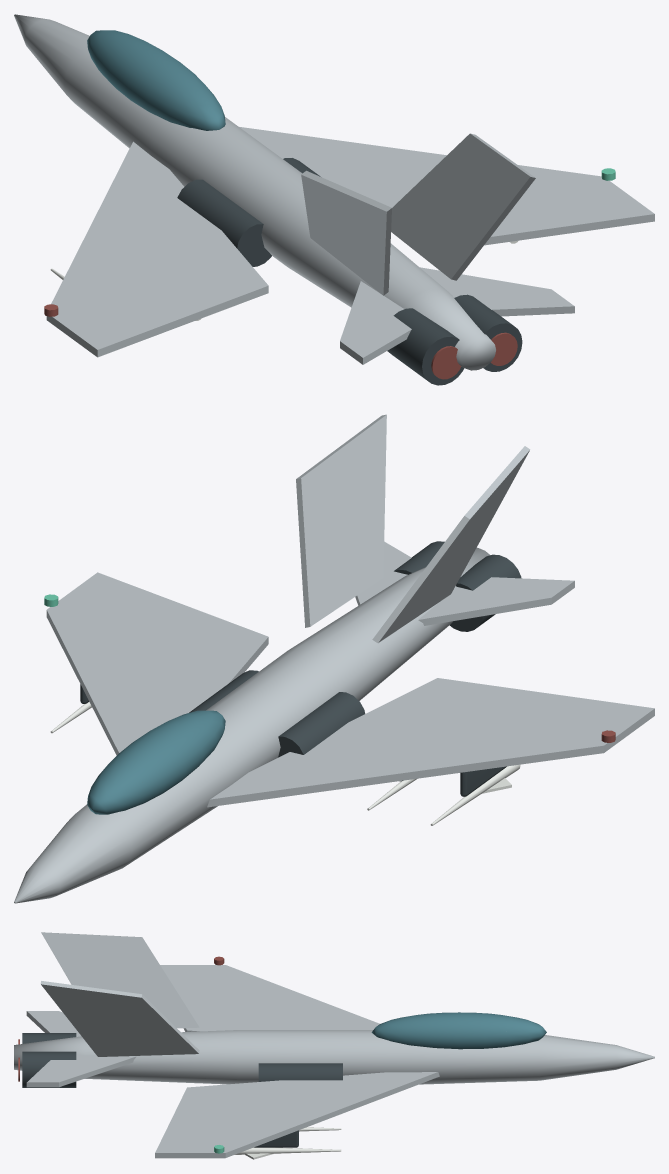
Rendered from generic-fighter.glb.
3 views of the same model, one above another, from view 1: azimuth 30°, elevation 25°; view 2: azimuth 150°, elevation 25°; view 3: azimuth 270°, elevation 25° (orthographic). The views are drawn at different scales.
Parts seen in each view (by area): view 1: fighter_Fuselage, fighter_SweptWing, fighter_SweptWing.001, fighter_TwinTail.001, fighter_Canopy, fighter_TwinTail, fighter_Tailplane, fighter_Tailplane.001, fighter_Intake, fighter_Exhaust, fighter_Exhaust.001, fighter_EngineInterior (+1 smaller); view 2: fighter_Fuselage, fighter_SweptWing, fighter_SweptWing.001, fighter_TwinTail.001, fighter_Canopy, fighter_TwinTail, fighter_Tailplane, fighter_Intake, fighter_Exhaust, fighter_Tailplane.001, fighter_TrainingMissile.001; view 3: fighter_Fuselage, fighter_SweptWing.001, fighter_SweptWing, fighter_TwinTail.001, fighter_TwinTail, fighter_Canopy, fighter_Tailplane.001, fighter_Intake.001, fighter_Exhaust.001, fighter_Tailplane, fighter_TrainingMissile.003, fighter_Exhaust (+1 smaller).
Part boxes in pixels (left/top/right/bottom): fighter_Fuselage: left=14, top=14, right=495, bottom=370; fighter_SweptWing: left=46, top=141, right=268, bottom=357; fighter_SweptWing.001: left=239, top=127, right=654, bottom=245; fighter_TwinTail.001: left=391, top=133, right=535, bottom=280; fighter_Canopy: left=87, top=30, right=225, bottom=130; fighter_TwinTail: left=301, top=170, right=391, bottom=295; fighter_Tailplane: left=340, top=281, right=411, bottom=364; fighter_Tailplane.001: left=420, top=267, right=574, bottom=316; fighter_Intake: left=177, top=179, right=271, bottom=266; fighter_Exhaust: left=387, top=308, right=464, bottom=385; fighter_Exhaust.001: left=454, top=294, right=522, bottom=371; fighter_EngineInterior: left=431, top=346, right=461, bottom=379; fighter_Fuselage: left=14, top=547, right=489, bottom=903; fighter_SweptWing: left=207, top=678, right=654, bottom=807; fighter_SweptWing.001: left=46, top=572, right=268, bottom=755; fighter_TwinTail.001: left=296, top=414, right=386, bottom=627; fighter_Canopy: left=87, top=710, right=225, bottom=814; fighter_TwinTail: left=372, top=446, right=530, bottom=642; fighter_Tailplane: left=418, top=577, right=574, bottom=625; fighter_Intake: left=278, top=692, right=365, bottom=757; fighter_Exhaust: left=449, top=554, right=521, bottom=631; fighter_Tailplane.001: left=355, top=541, right=411, bottom=605; fighter_TrainingMissile.001: left=430, top=764, right=520, bottom=825; fighter_Fuselage: left=14, top=1030, right=654, bottom=1084; fighter_SweptWing.001: left=155, top=1072, right=439, bottom=1158; fighter_SweptWing: left=160, top=965, right=379, bottom=1031; fighter_TwinTail.001: left=40, top=981, right=199, bottom=1056; fighter_TwinTail: left=41, top=932, right=199, bottom=1028; fighter_Canopy: left=371, top=1012, right=546, bottom=1049; fighter_Tailplane.001: left=26, top=1054, right=136, bottom=1087; fighter_Intake.001: left=258, top=1063, right=342, bottom=1081; fighter_Exhaust.001: left=22, top=1051, right=76, bottom=1087; fighter_Tailplane: left=26, top=1011, right=81, bottom=1036; fighter_TrainingMissile.003: left=235, top=1147, right=341, bottom=1154; fighter_Exhaust: left=22, top=1033, right=76, bottom=1043.
Bounding box in the file's own units: 13.5 × 4.45 × 19.
